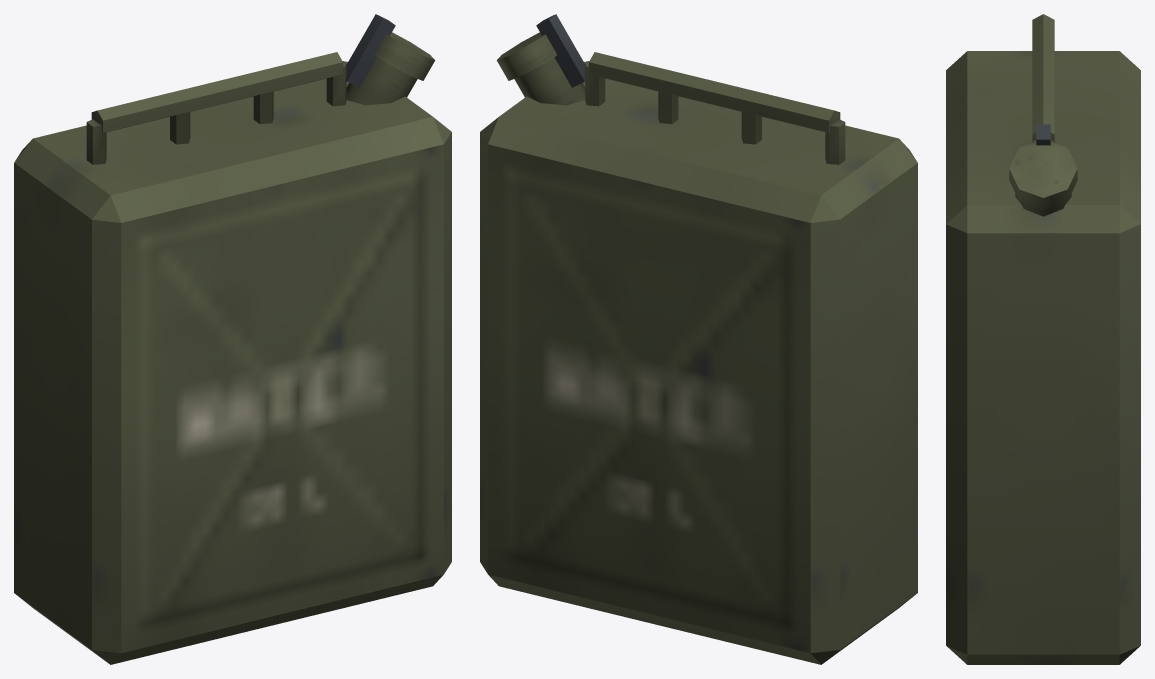
The model's file is water_can.glb.
The picture shows the model from 3 angles, left to right: view 1: azimuth 30°, elevation 25°; view 2: azimuth 150°, elevation 25°; view 3: azimuth 270°, elevation 25°; orthographic projection. The views are drawn at different scales.
Visible parts, largest first — view 1: water_can; view 2: water_can; view 3: water_can.
Part boxes in pixels (bbox=[...]): water_can: bbox=[14, 14, 451, 664]; water_can: bbox=[480, 14, 917, 664]; water_can: bbox=[946, 14, 1140, 664].
Bounding box in the file's own units: 0.3615 × 0.4989 × 0.165.
1 material, 1 textured.
